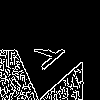K: (25, 25, 67, 79)
